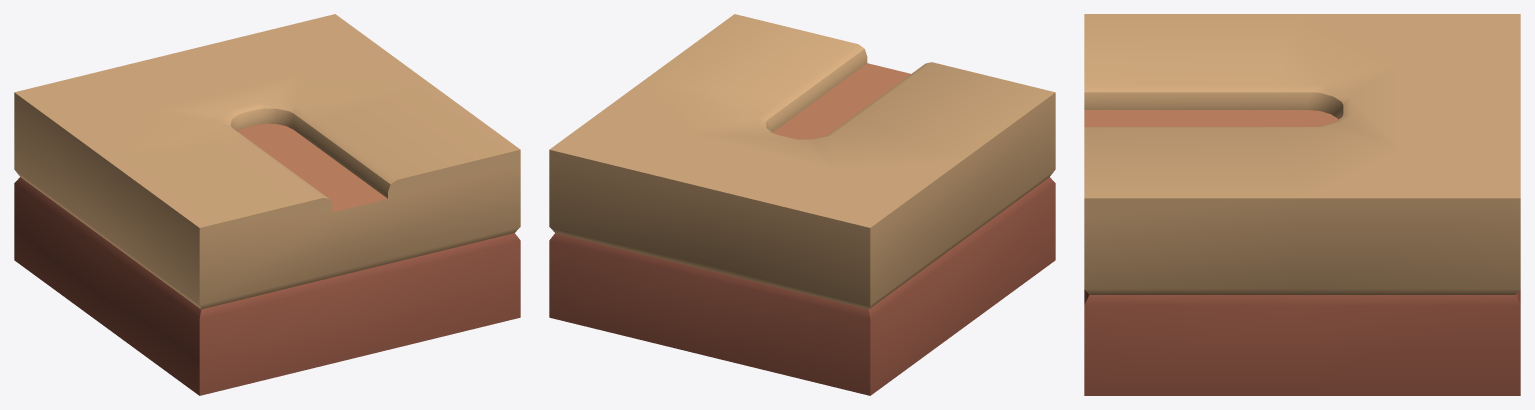
The model's file is kaykit-square-sand-roada-detail.glb.
3 renders of one model, left to right at view 1: azimuth 30°, elevation 25°; view 2: azimuth 150°, elevation 25°; view 3: azimuth 270°, elevation 25°, orthographic. The views are drawn at different scales.
Parts seen in each view (by area): view 1: square_sand_roadA_detail; view 2: square_sand_roadA_detail; view 3: square_sand_roadA_detail.
Boxes of the visible parts, x1,y1,x2,y2 form: square_sand_roadA_detail: (14,14,520,395); square_sand_roadA_detail: (549,14,1055,395); square_sand_roadA_detail: (1084,14,1520,395).
Size of the model in its own units: 2 by 0.9998 by 2.
